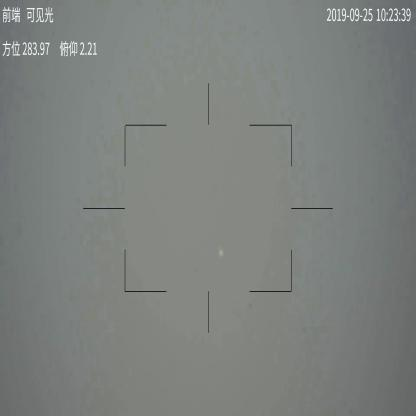uav: (219, 250, 225, 260)
